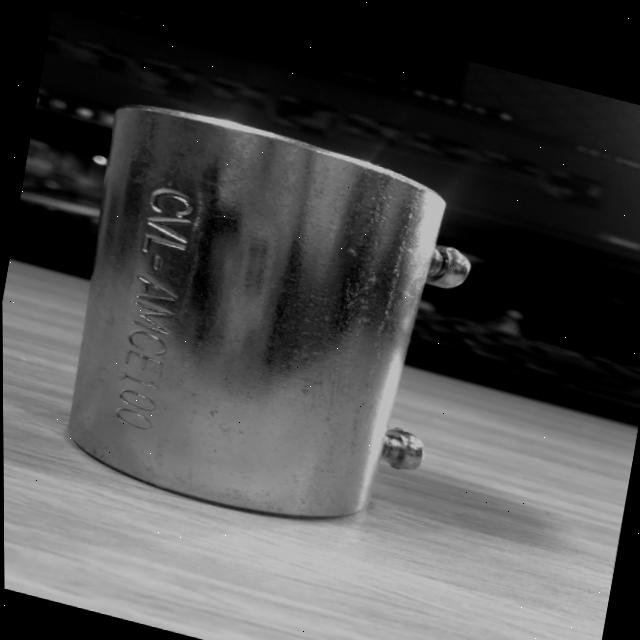Co_Nho: (40, 97, 491, 541)
